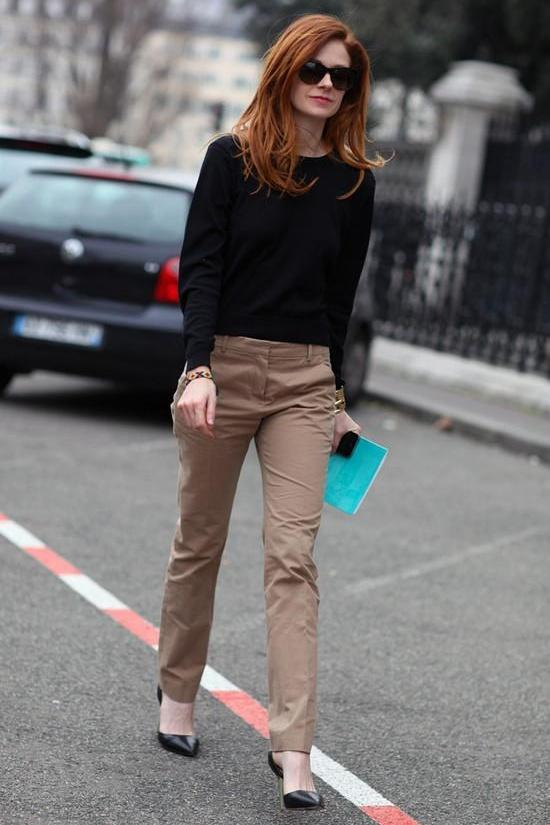Tshirt: (176, 136, 376, 373)
pants: (156, 334, 335, 754)
